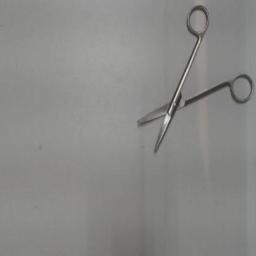Curved Mayo Scissors: (134, 2, 254, 156)
